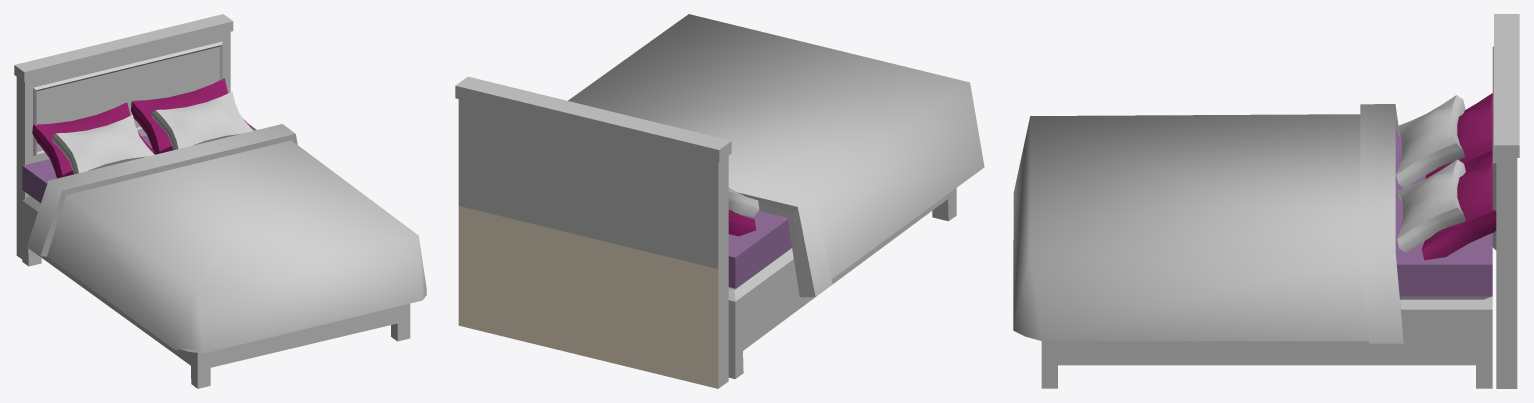
The model's file is bed_02.FBX.
3 views of the same model, side by side, from view 1: azimuth 30°, elevation 25°; view 2: azimuth 150°, elevation 25°; view 3: azimuth 270°, elevation 25° (orthographic). The views are drawn at different scales.
Parts seen in each view (by area): view 1: Plane001; view 2: Plane001; view 3: Plane001.
Boxes of the visible parts, x1=… form: Plane001: x1=14, y1=14, x2=426, y2=388; Plane001: x1=455, y1=14, x2=984, y2=388; Plane001: x1=1013, y1=14, x2=1519, y2=388.
Size of the model in its own units: 175 by 120 by 224.
